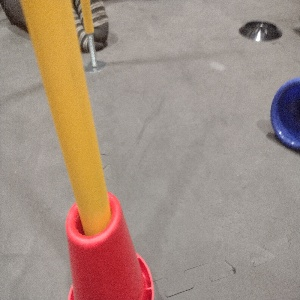Blue_1: (266, 72, 299, 148)
Red_1: (56, 186, 157, 299)
